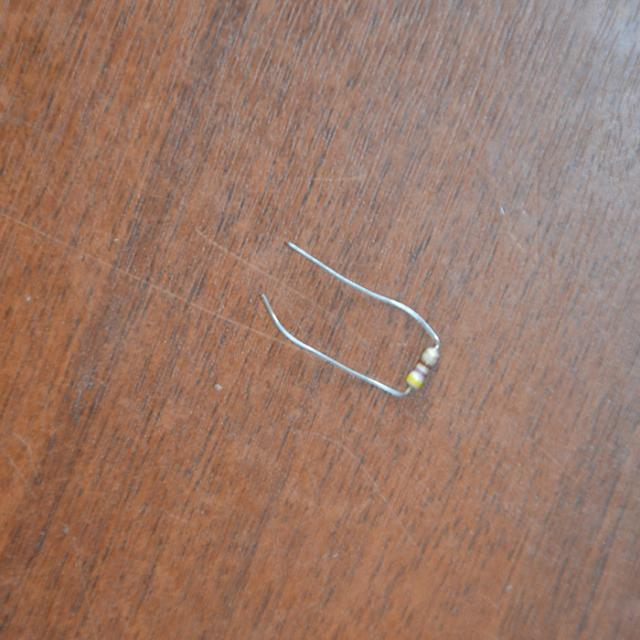brown: (418, 359, 434, 369)
gold: (421, 350, 437, 362)
resistor: (393, 338, 452, 403)
violet: (413, 367, 427, 377)
yellow: (406, 373, 421, 386)
